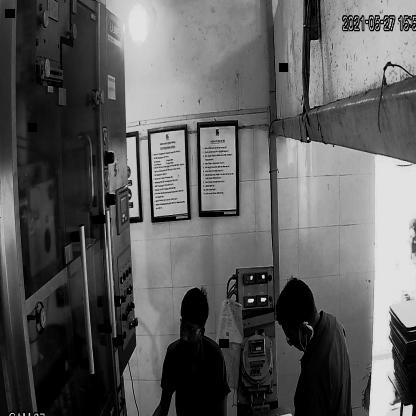goggles: (178, 314, 206, 338)
